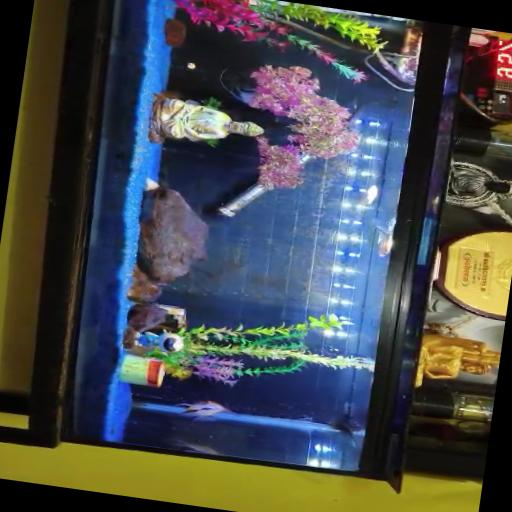Fish: (218, 69, 256, 102), (176, 400, 231, 418), (373, 218, 395, 256), (170, 438, 219, 454), (365, 184, 378, 203)
